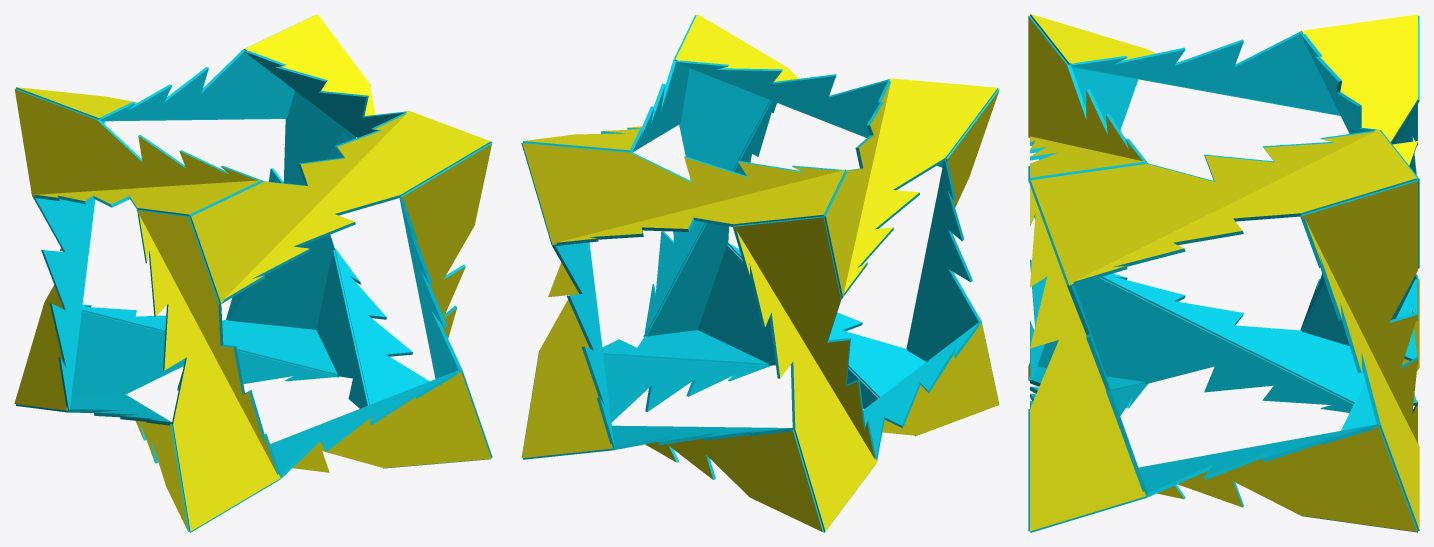
3 renders of one model, left to right at view 1: azimuth 30°, elevation 25°; view 2: azimuth 150°, elevation 25°; view 3: azimuth 270°, elevation 25°, orthographic. The views are drawn at different scales.
Parts seen in each view (by area): view 1: root; view 2: root; view 3: root.
Part boxes in pixels (x1,y1,x2,y2): root: (14,14,492,532); root: (521,14,999,532); root: (1028,14,1419,532).
Size of the model in its own units: 1.01 by 1.01 by 1.01.
